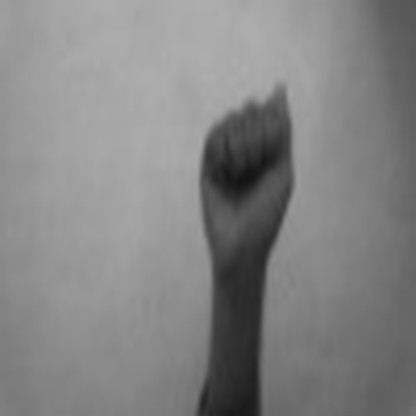a: (193, 77, 302, 260)
